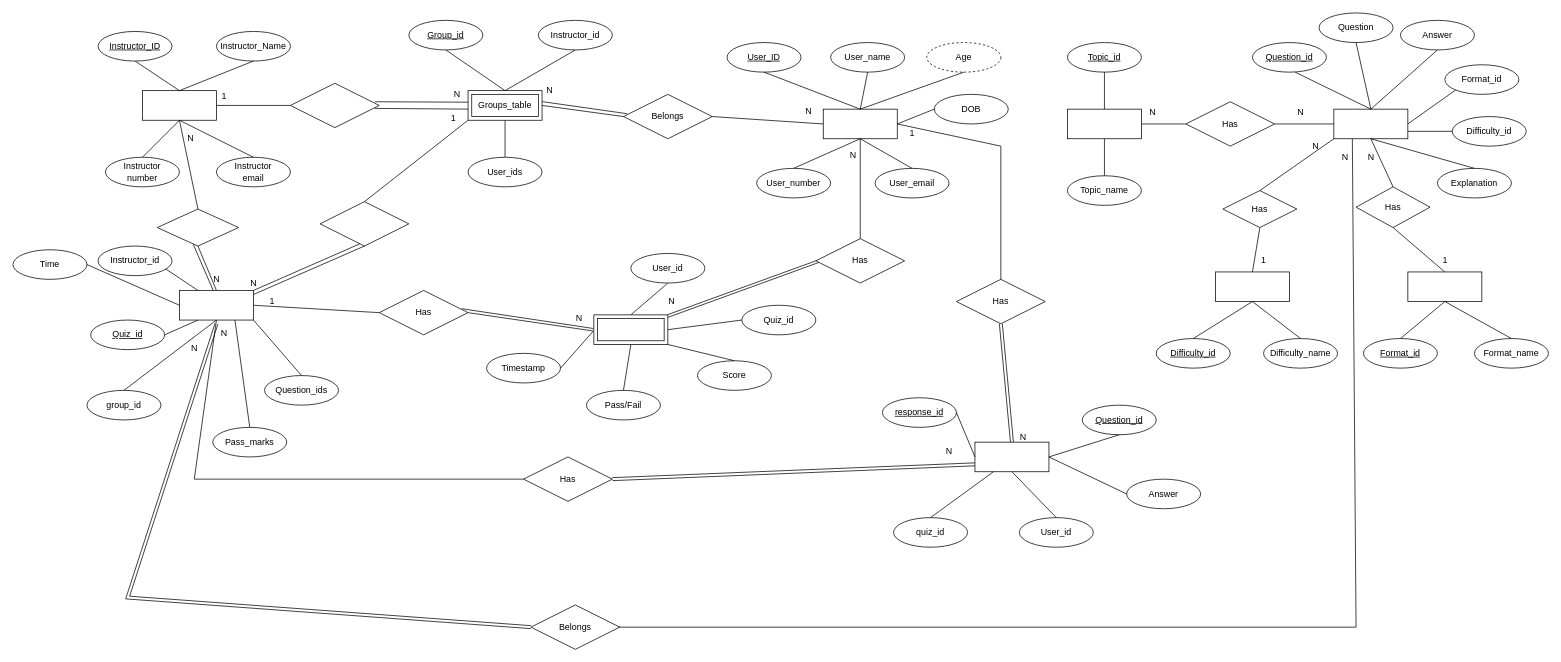
Some shapes in this 1561 by 662 pixel diagram are drawn without their labels. The centre of each missing label's shape, as x and y in pixels:
"Creates" belongs at point (334, 105).
"Creates or uses" belongs at point (198, 227).
"Difficulty_table" belongs at point (1252, 286).
"Instructor_table" belongs at point (179, 105).
"Involved" belongs at point (364, 223).
"Question_format Table" belongs at point (1444, 286).
"Questions" belongs at point (1370, 123).
"Results" belongs at point (630, 329).
"Schedule_table" belongs at point (216, 305).
"Topics_table" belongs at point (1104, 123).
"User_response details" belongs at point (1011, 456).
"Users_table" belongs at point (860, 123).
